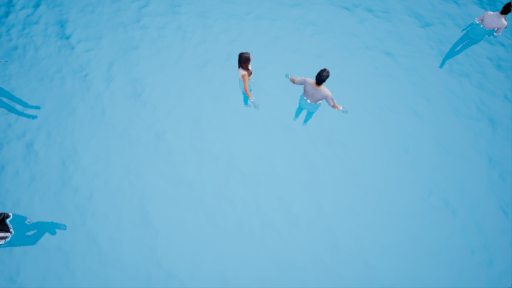person: (440, 1, 512, 75), (289, 56, 346, 126), (230, 44, 272, 112), (1, 210, 64, 254)
